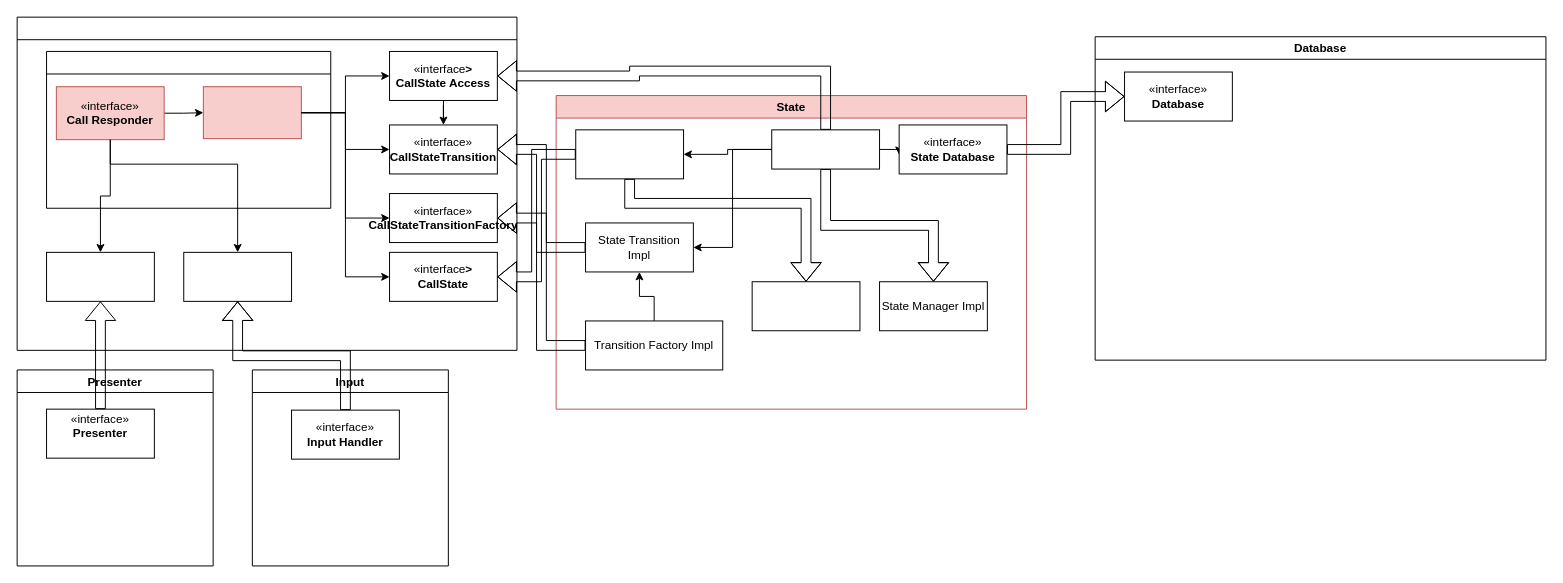
Image size: 1563x583. Some labels were removed from this diagram. The box of each missing label's shape, as (x1, y1, x2, y2) in pixels:
Main Calling Management: (16, 16, 517, 350)
State Impl: (751, 281, 860, 331)
Strategy: (46, 50, 331, 208)
«interface > Presenter Access: (46, 251, 154, 301)
«interface» Call Handler: (202, 86, 301, 139)
«interface» Input Access: (183, 251, 292, 301)
«interface» State: (575, 129, 684, 179)
«interface» State Manager: (771, 129, 880, 169)
